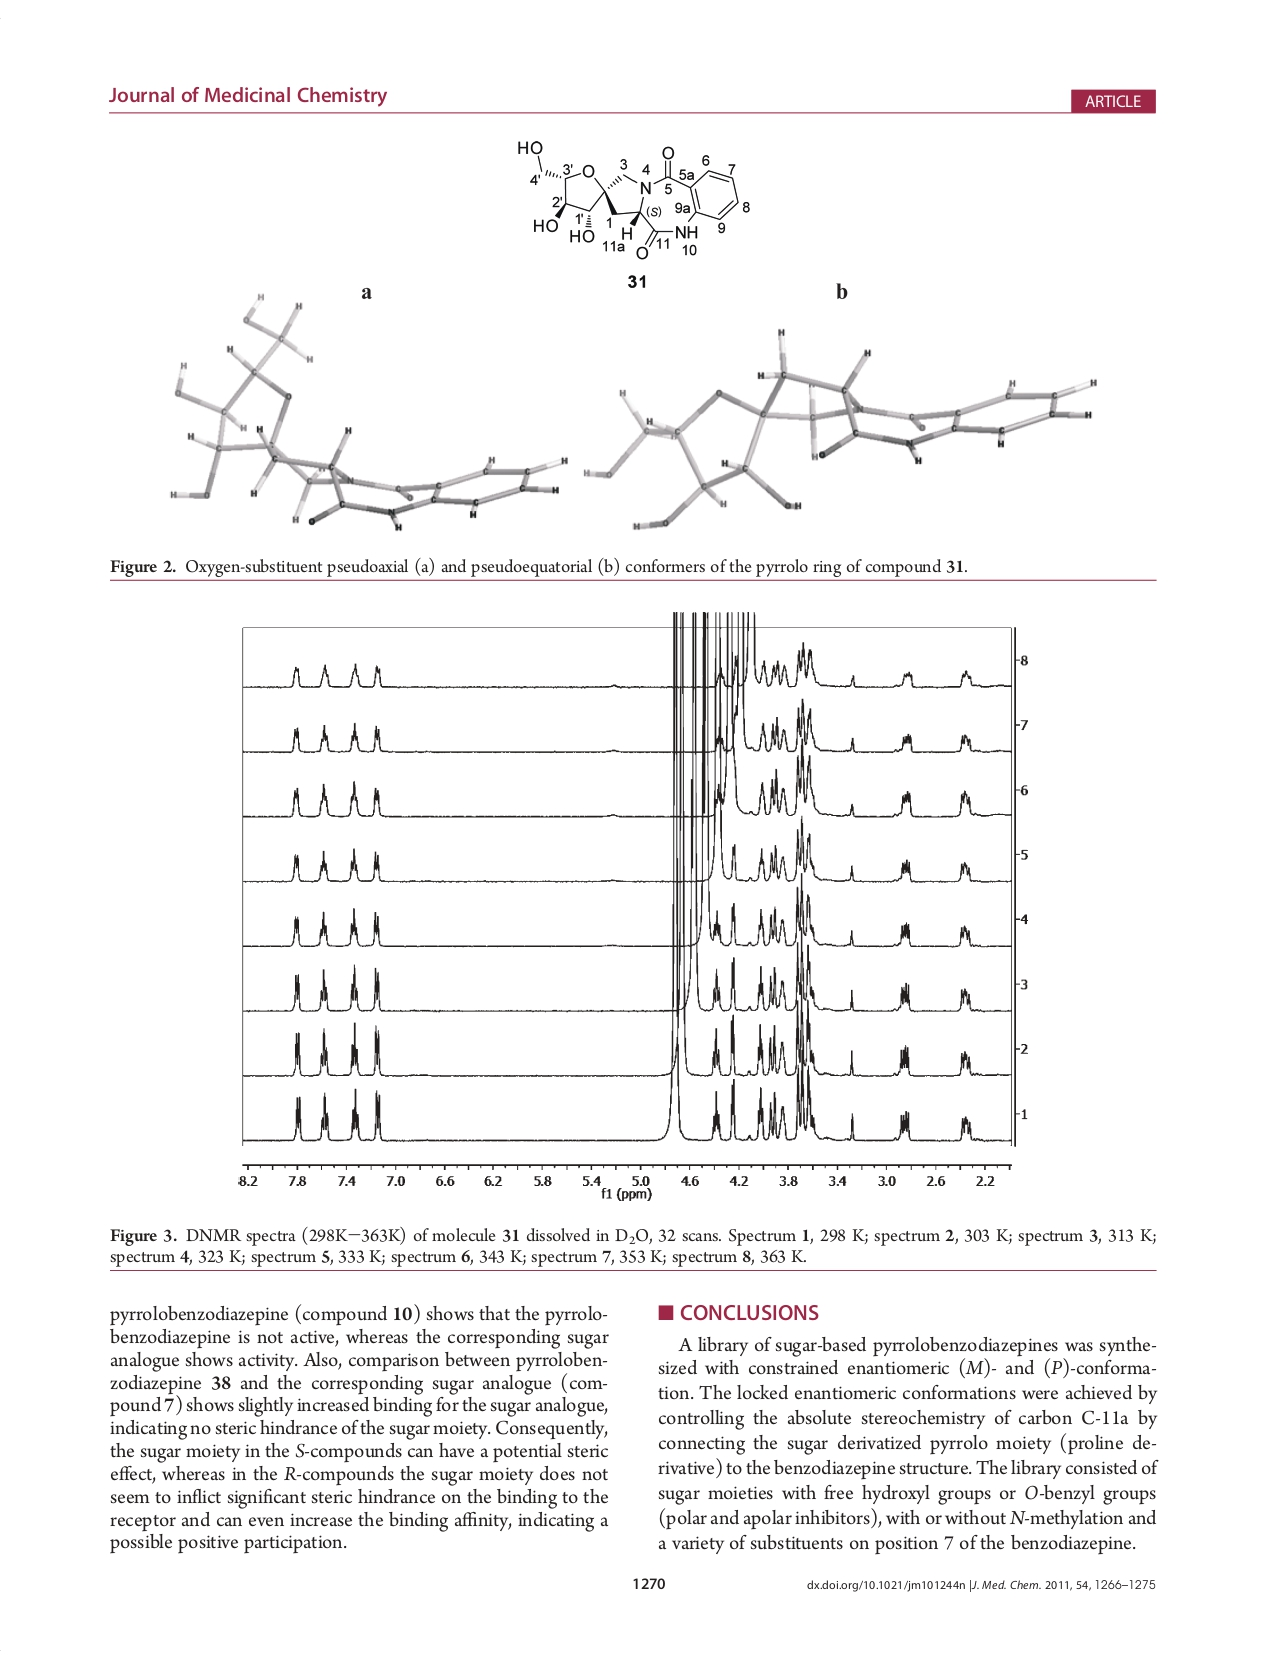exist_molecular: (515, 133, 742, 261)
